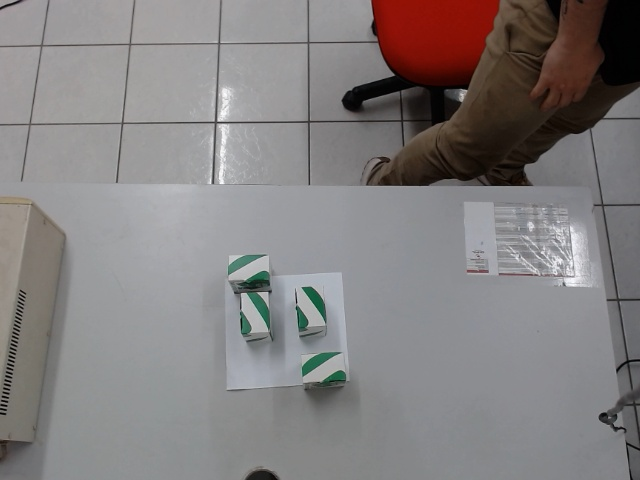divisor: (223, 271, 350, 392)
item: (299, 351, 348, 391), (239, 291, 275, 345), (294, 284, 328, 341), (227, 254, 273, 294)
